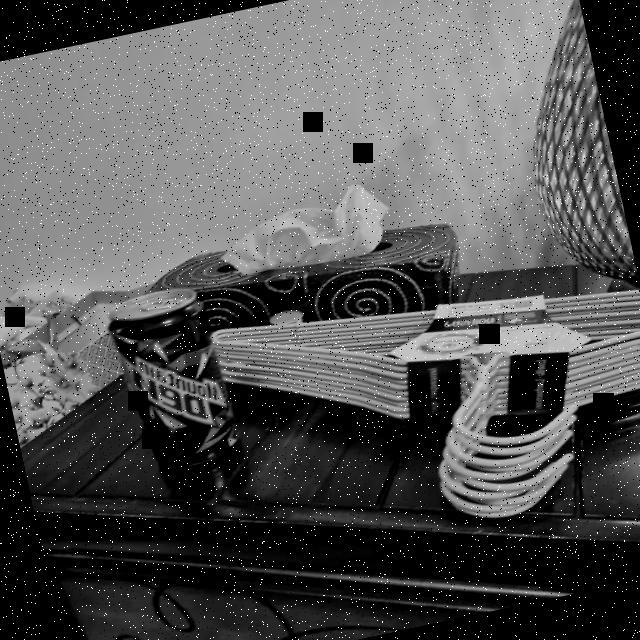can: (100, 282, 239, 473)
